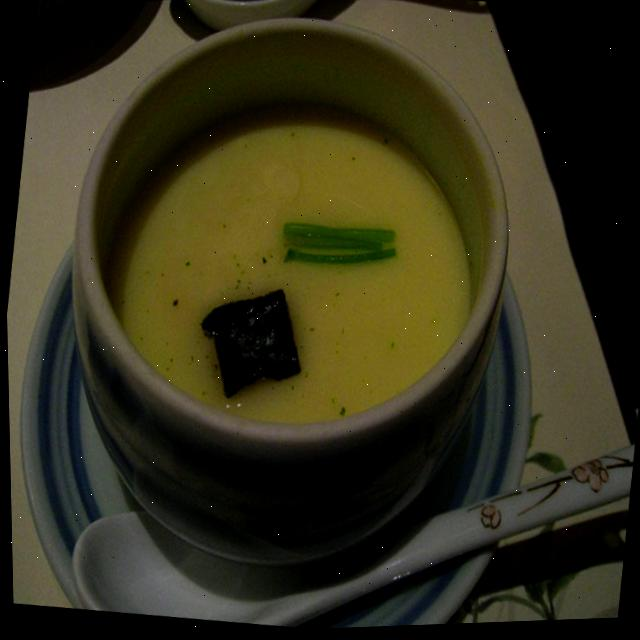鸡蛋料理: (23, 0, 419, 385)
